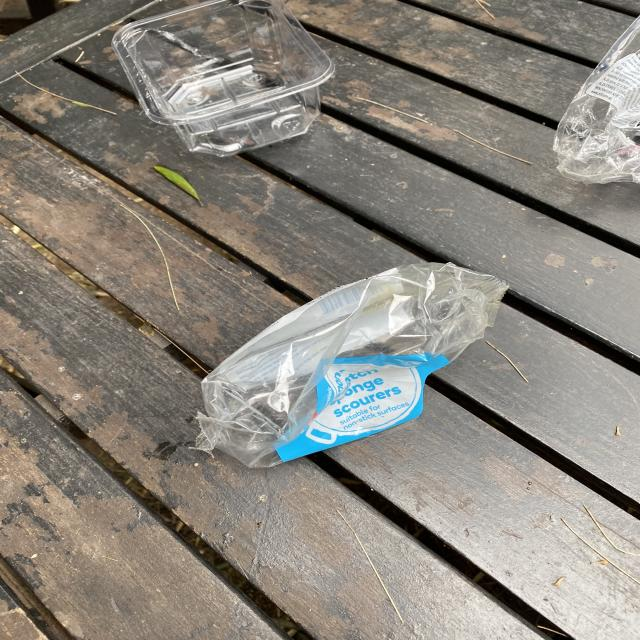cup: (113, 0, 337, 157)
wrappers: (190, 262, 510, 470)
